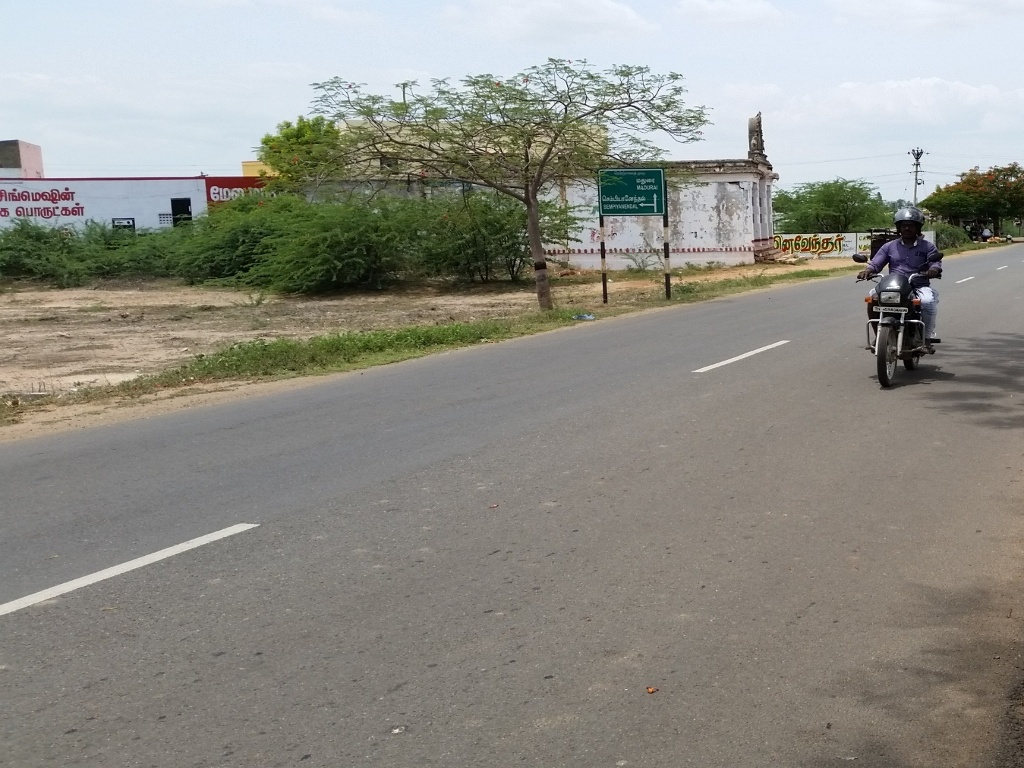biker: (837, 169, 967, 403)
helmet: (888, 196, 933, 251)
